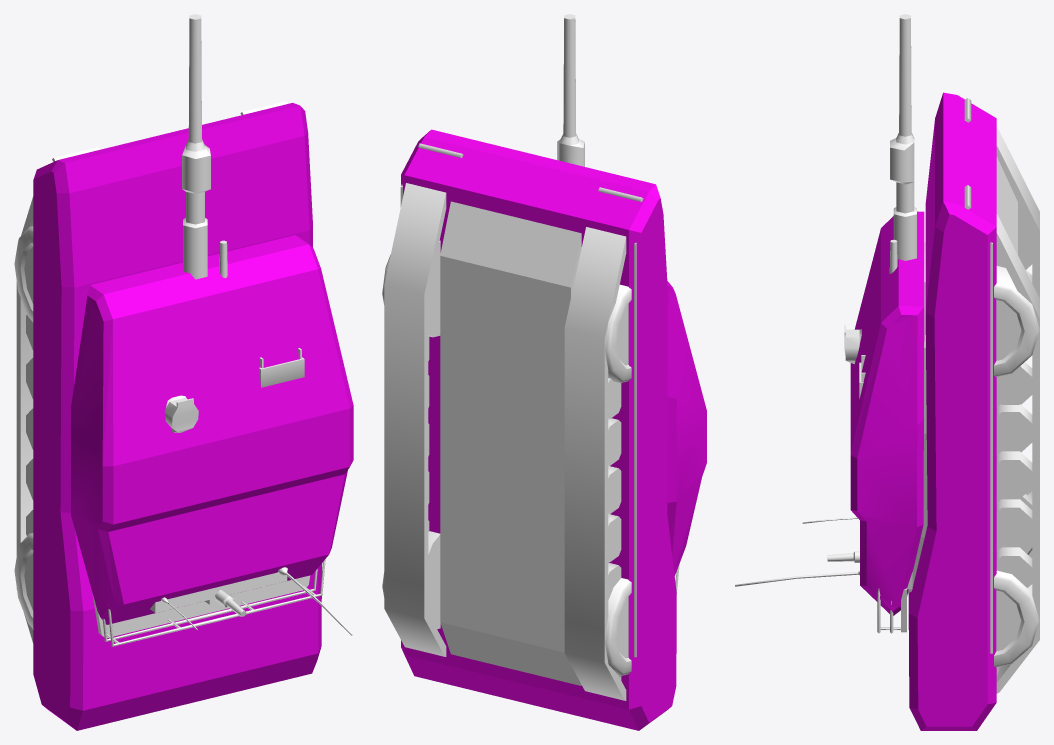
Rendered from Tank.glb.
The picture shows the model from 3 angles, left to right: view 1: azimuth 30°, elevation 25°; view 2: azimuth 150°, elevation 25°; view 3: azimuth 270°, elevation 25°; orthographic projection. The views are drawn at different scales.
Parts seen in each view (by area): view 1: TankProxy, TankGlass, Tank, TankWheel_LF, TankWheel_LB; view 2: Tank, TankProxy, TankGlass, TankWheel_LB, TankWheel_LF, TankWheel_RB, TankWheel_RF; view 3: TankProxy, Tank, TankGlass, TankWheel_RF, TankWheel_RB, TankWheel_LF.
Boxes of the visible parts, x1,y1,x2,y2 form: TankProxy: [33, 103, 353, 730]; TankGlass: [92, 14, 352, 646]; Tank: [16, 101, 287, 643]; TankWheel_LF: [14, 226, 33, 322]; TankWheel_LB: [14, 533, 33, 628]; Tank: [384, 143, 643, 700]; TankProxy: [401, 129, 706, 730]; TankGlass: [557, 14, 679, 593]; TankWheel_LB: [605, 578, 631, 675]; TankWheel_LF: [605, 284, 631, 382]; TankWheel_RB: [382, 531, 440, 629]; TankWheel_RF: [382, 240, 440, 337]; TankProxy: [850, 92, 996, 730]; Tank: [964, 98, 1039, 693]; TankGlass: [735, 14, 927, 633]; TankWheel_RF: [994, 266, 1039, 377]; TankWheel_RB: [994, 570, 1039, 667]; TankWheel_LF: [1018, 205, 1032, 269].
Size of the model in its own units: 3.7 by 9.74 by 4.1.
